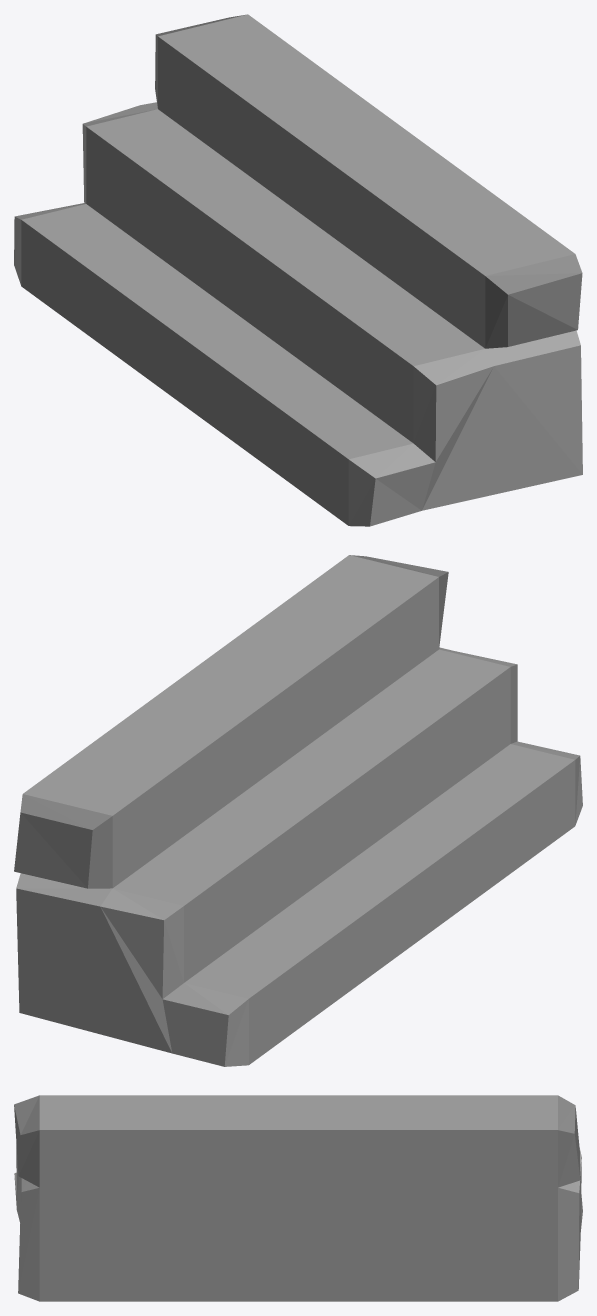
Rendered from _STAIRS_1_01.fbx.
3 views of the same model, one above another, from view 1: azimuth 30°, elevation 25°; view 2: azimuth 150°, elevation 25°; view 3: azimuth 270°, elevation 25° (orthographic). The views are drawn at different scales.
Parts seen in each view (by area): view 1: STAIRS_1_01; view 2: STAIRS_1_01; view 3: STAIRS_1_01.
Boxes of the visible parts, x1,y1,x2,y2 form: STAIRS_1_01: (14,14,582,526); STAIRS_1_01: (14,555,582,1066); STAIRS_1_01: (14,1095,582,1301).
Bounding box in the file's own units: 80 × 73.06 × 220.
